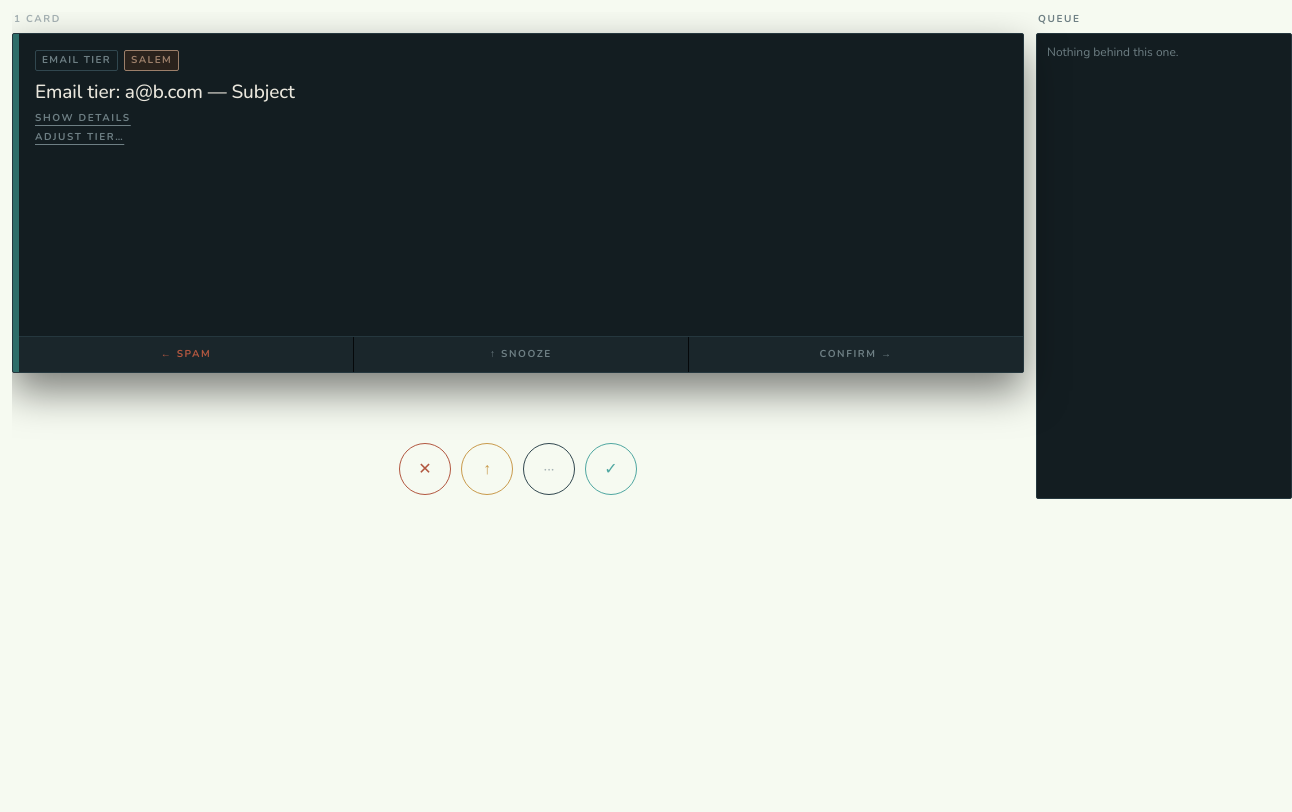
the DOM the operator actually sees › Acknowledge removes the notice and the card mark in one tap
The width and height of the screenshot is (1292, 812).
Click the button with test id "deck-btn-affirm".
click(611, 469)  # box left=585, top=443, right=637, bottom=495
Wait 6000 ms
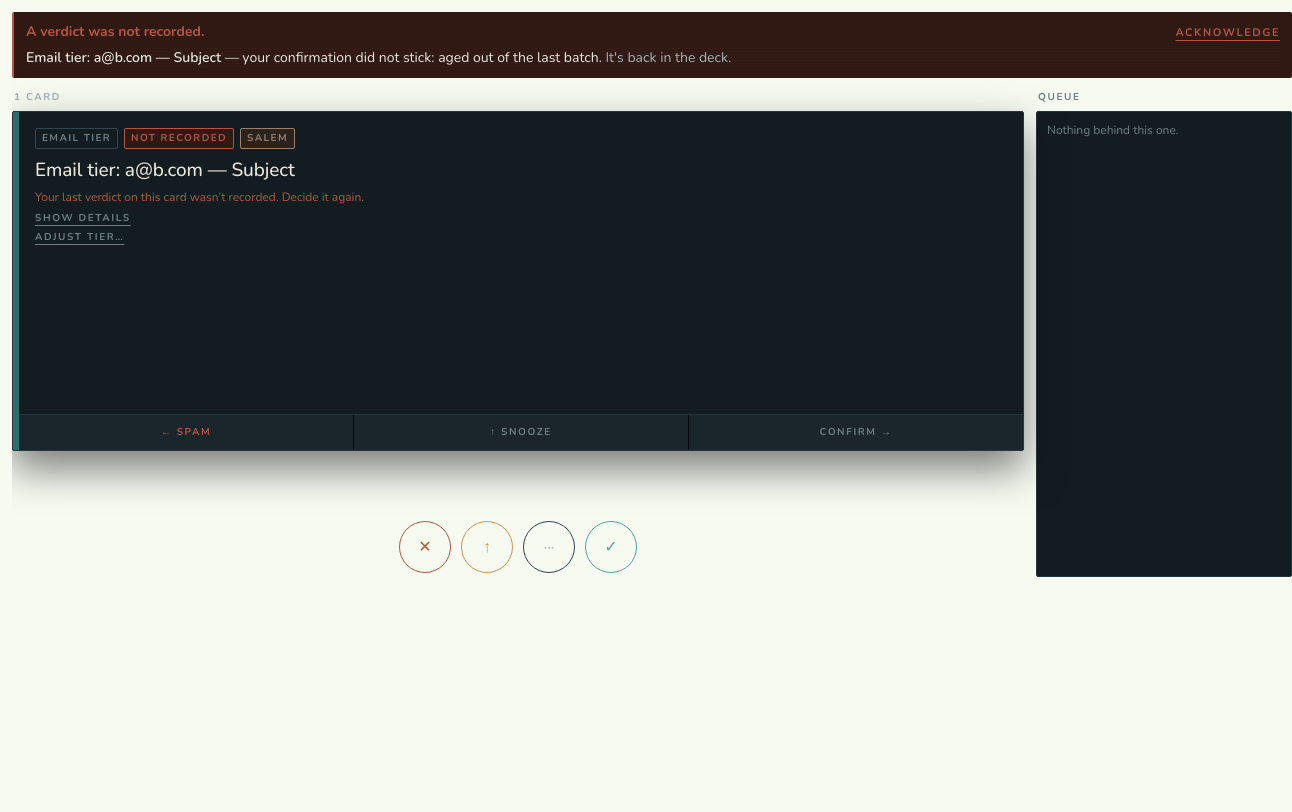
Now the text "Not recorded" is shown, box left=124, top=128, right=234, bottom=149
Click the button with test id "deck-unrecorded-ack".
click(1228, 33)  # box left=1176, top=25, right=1280, bottom=42
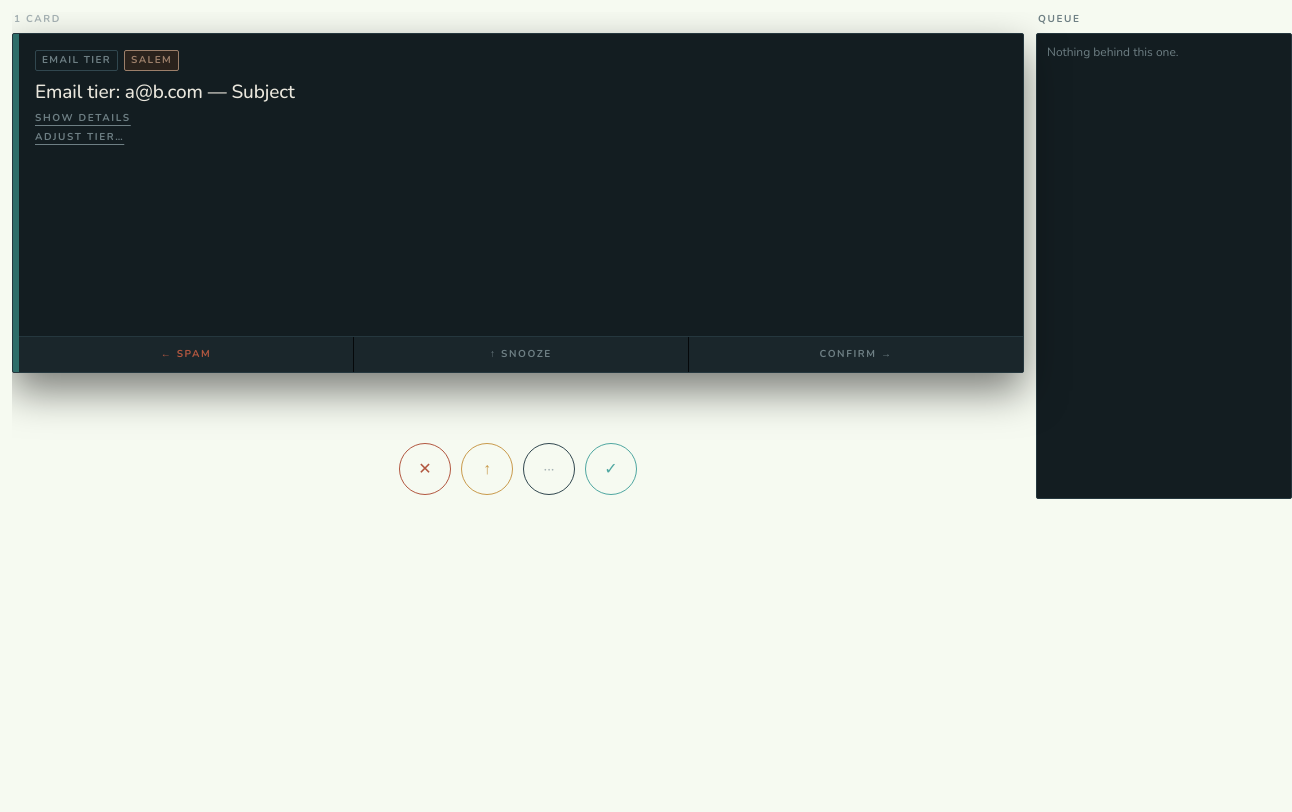
Now the message with test id "deck-unrecorded" is gone
Now the text with test id "deck-unrecorded-mark" is gone
Now the text with test id "deck-unrecorded-note" is gone
